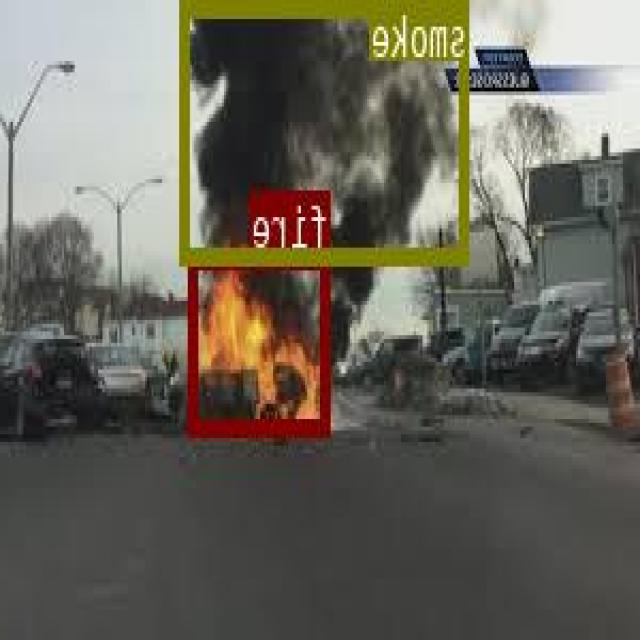fire: (191, 251, 331, 433)
smoke: (182, 0, 470, 263)
